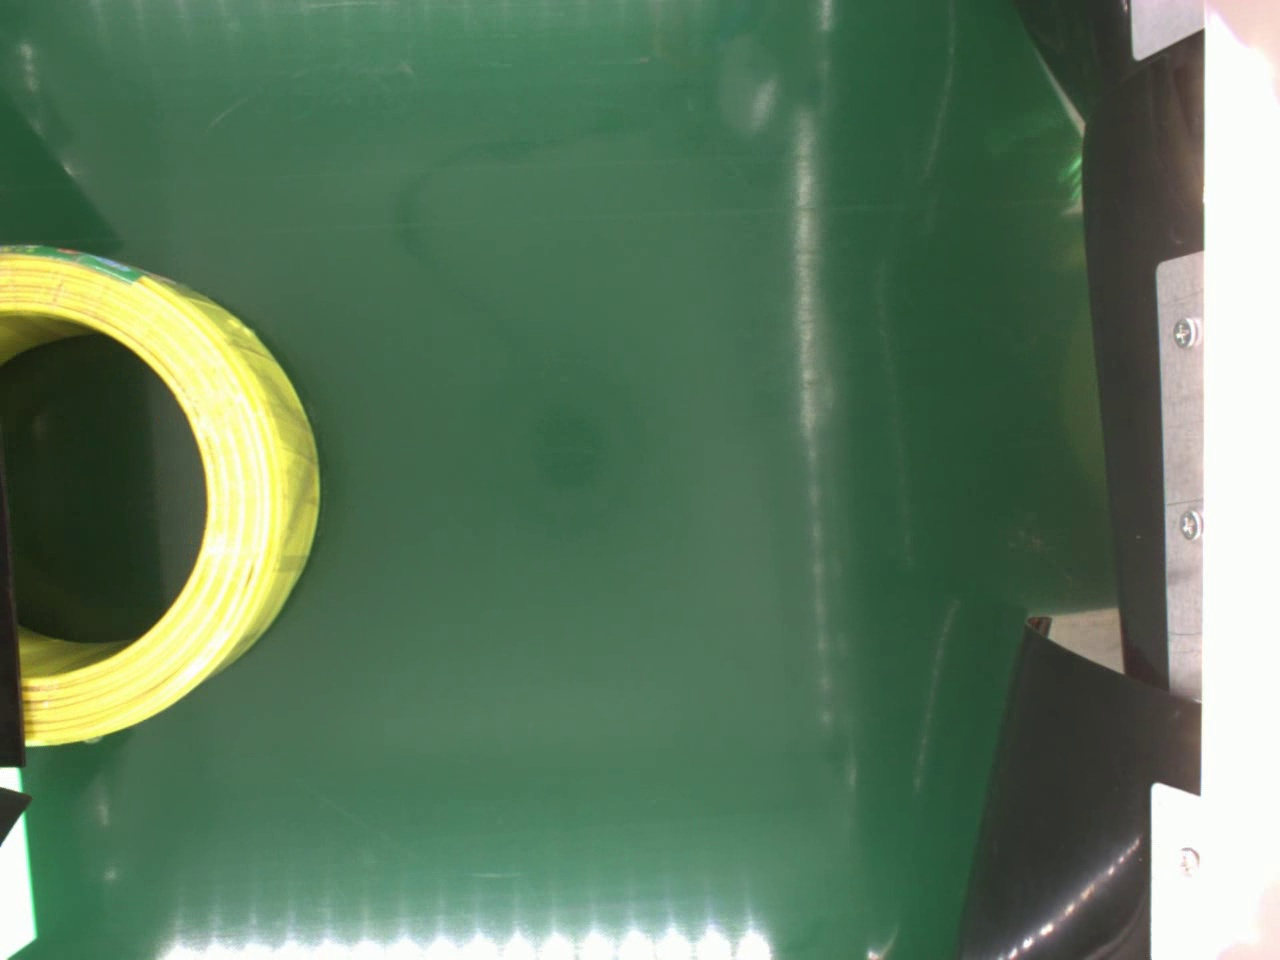yellow: (2, 237, 316, 753)
